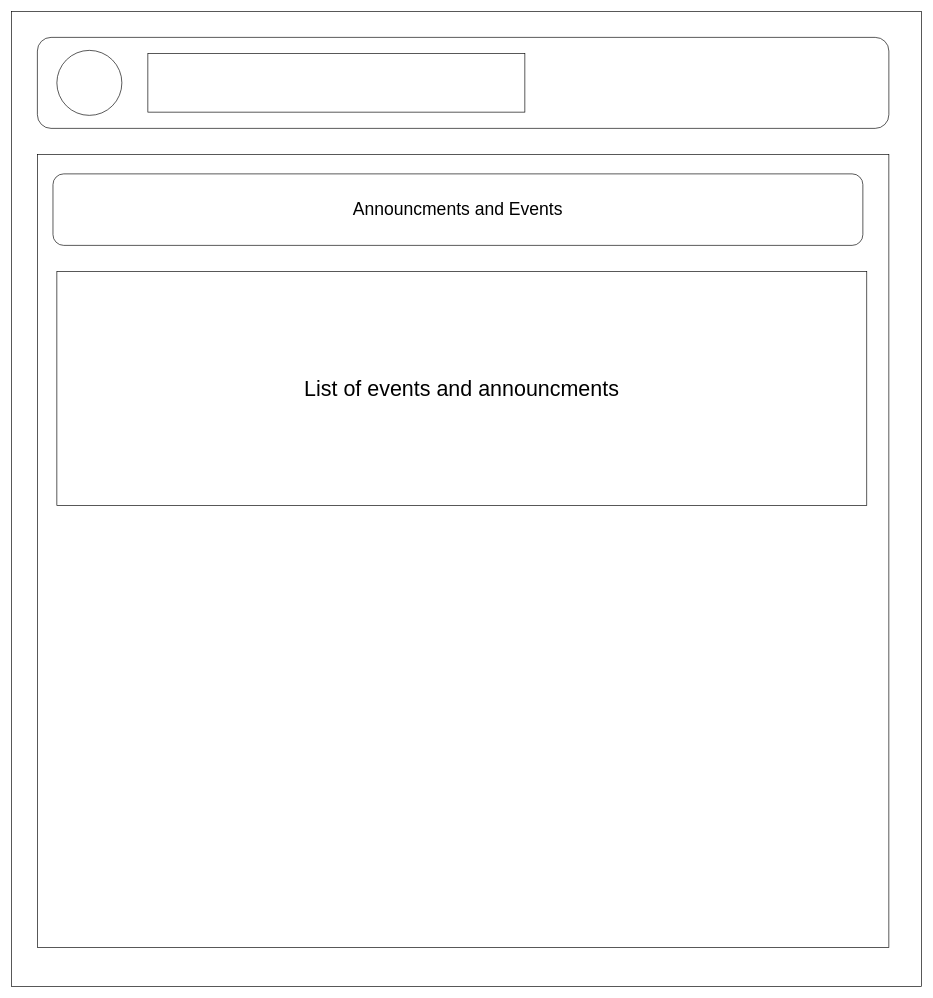
Image size: 933x998. Some labels were removed from this diagram. Each missing label, with the box of its shape:
logo: (56, 50, 122, 115)
University name: (147, 53, 525, 112)
